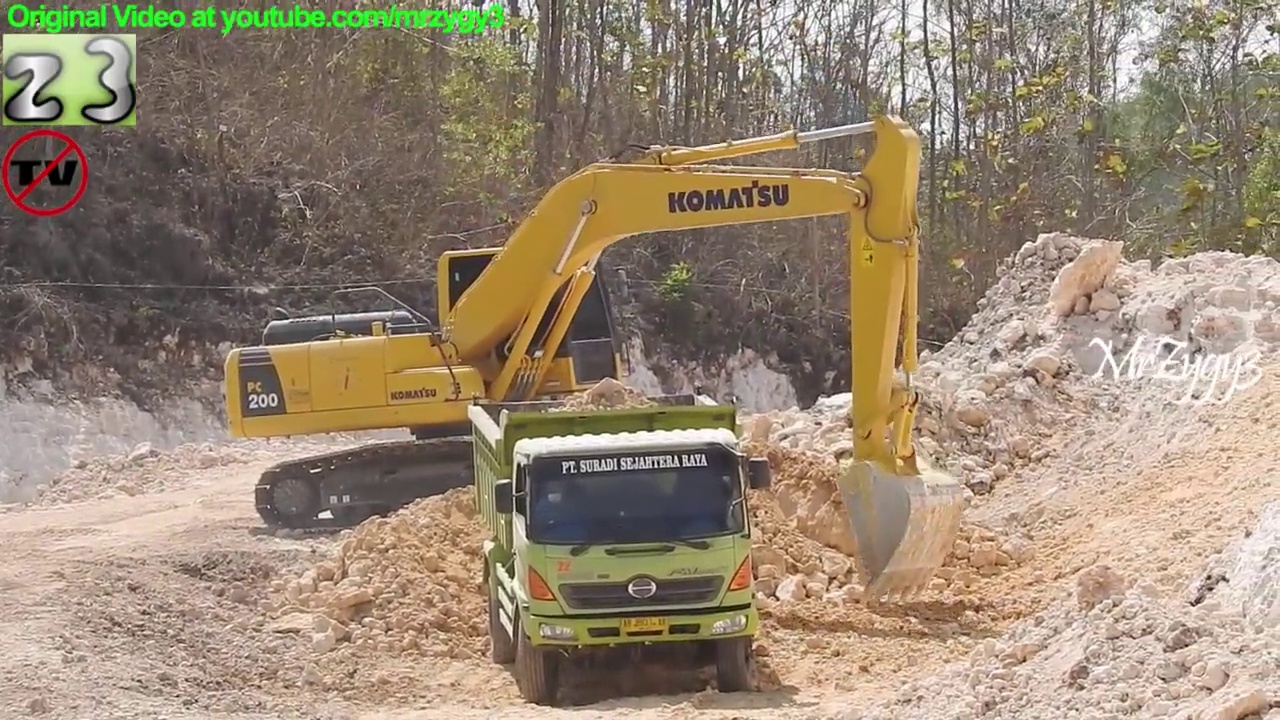excavator: (219, 107, 969, 612)
truck: (464, 382, 779, 706)
